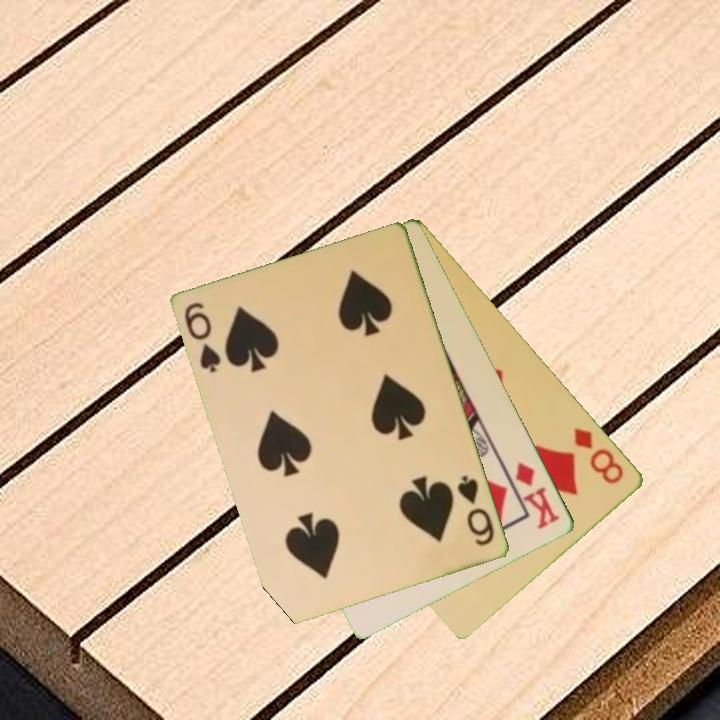6s: (454, 472, 498, 550), (181, 299, 224, 376)
8d: (571, 424, 627, 488)
Kd: (512, 458, 564, 533)
